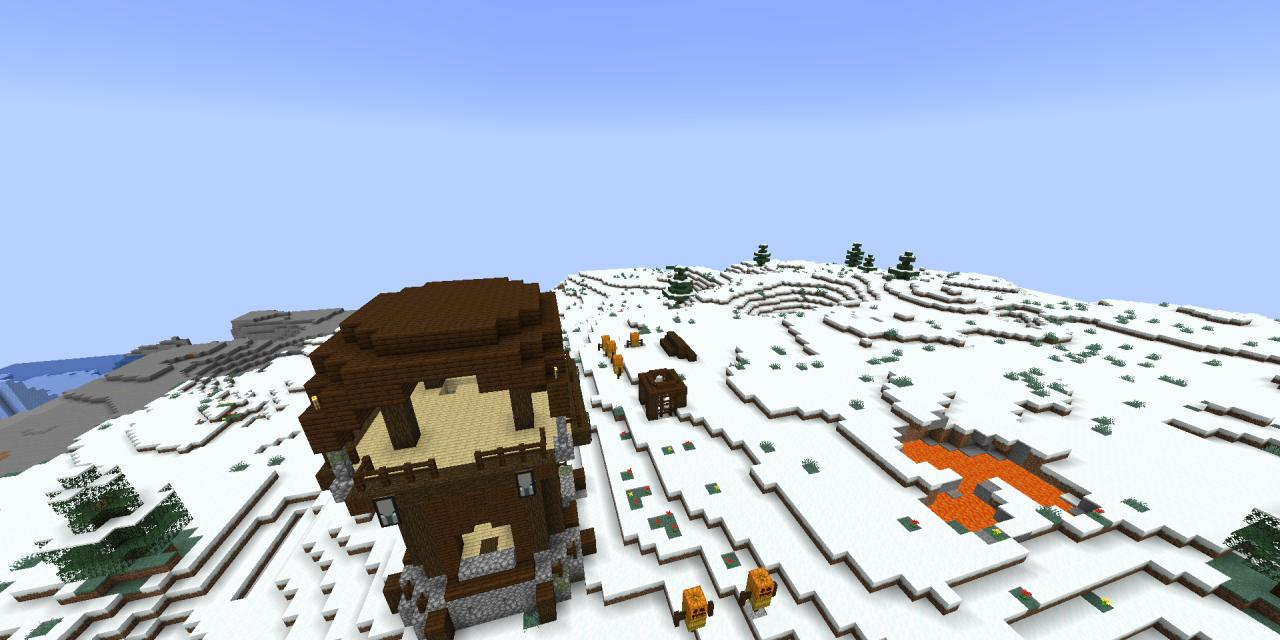pillager outpost: (292, 257, 594, 640)
